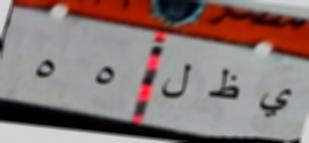5: (93, 60, 118, 90), (33, 57, 61, 83)
Thaa: (205, 65, 245, 105)
laam: (159, 58, 196, 105)
yaa: (255, 81, 294, 120)
